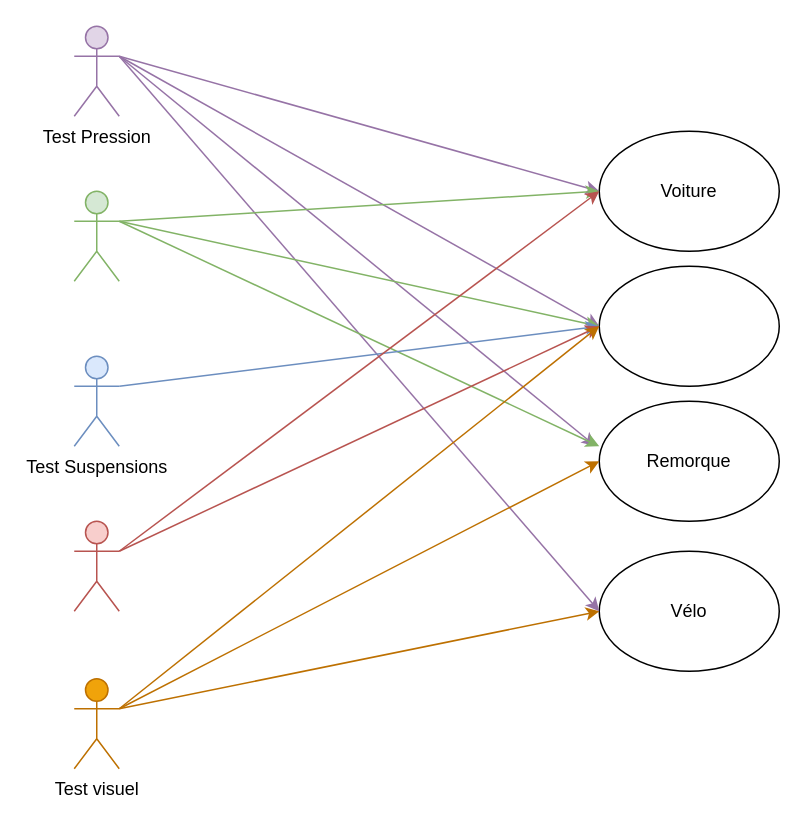
The diagram is 806 pixels wide and 827 high, and some of its shapes have lost their labels. The shapes that lost their labels are listed below. From the top down, each one's centre as x and y in pixels, then its label:
[96,235]: Test Mécanique
[688,325]: Camion
[96,565]: Test Carburant
